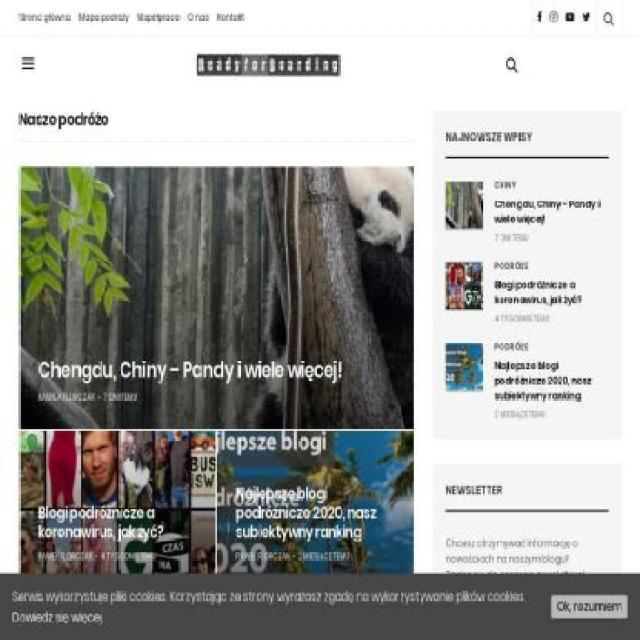button: (19, 166, 415, 429), (19, 430, 216, 588), (217, 430, 414, 588), (196, 34, 342, 94), (121, 612, 208, 640), (226, 612, 312, 640), (328, 612, 414, 640), (19, 612, 104, 640), (445, 342, 483, 393), (445, 262, 483, 312), (445, 182, 483, 230), (550, 596, 628, 618), (38, 390, 96, 404), (235, 549, 291, 563), (38, 549, 93, 563), (494, 342, 529, 352), (494, 262, 529, 270), (494, 181, 517, 190)
field: (445, 594, 609, 628)
